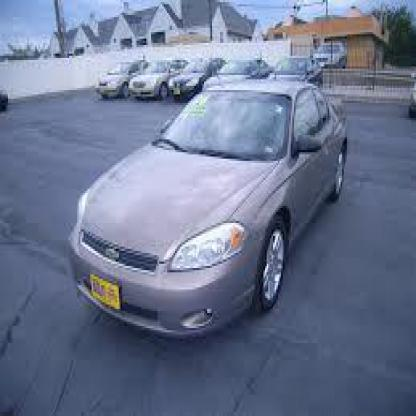Vehicle: (66, 69, 353, 341)
